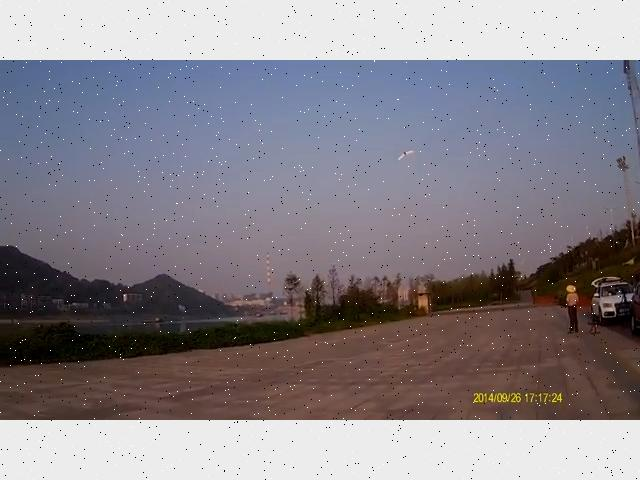Anti-Drone: (385, 140, 425, 166)
